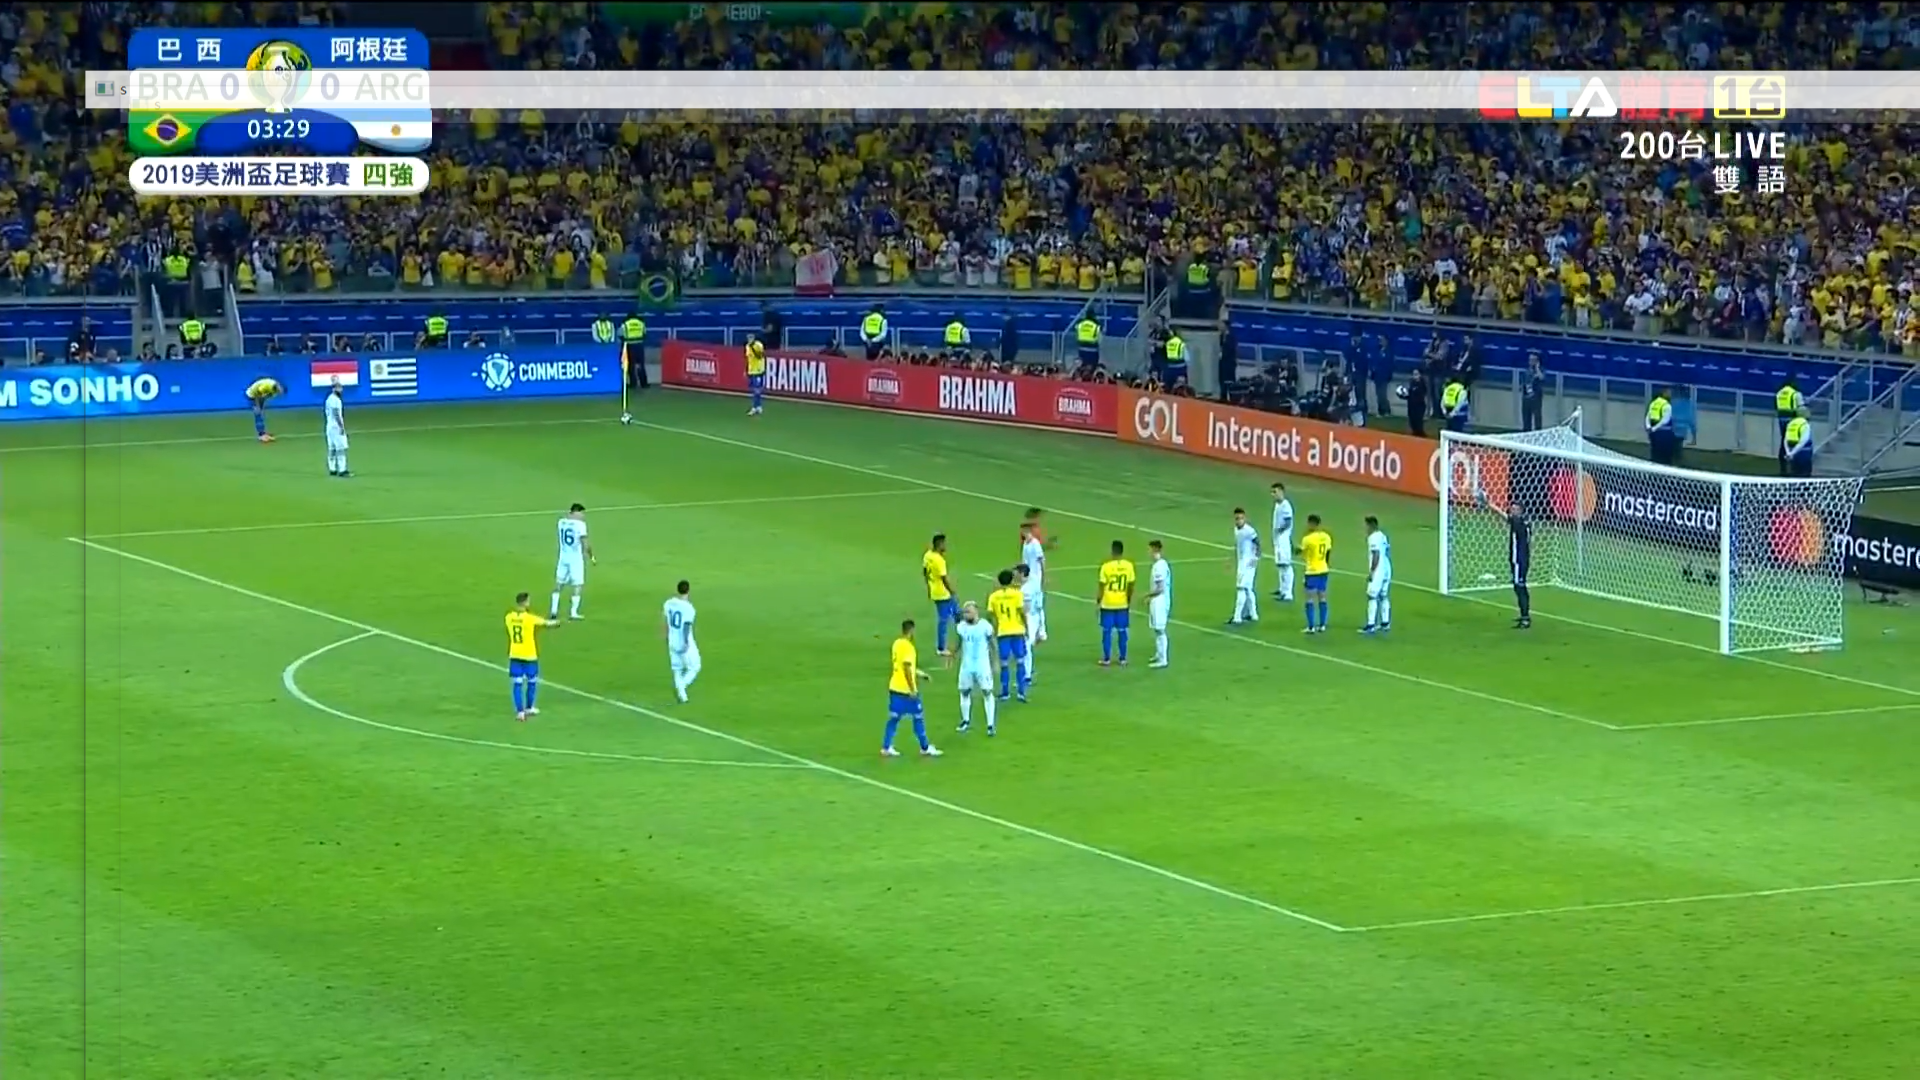ft: (618, 411, 632, 426)
